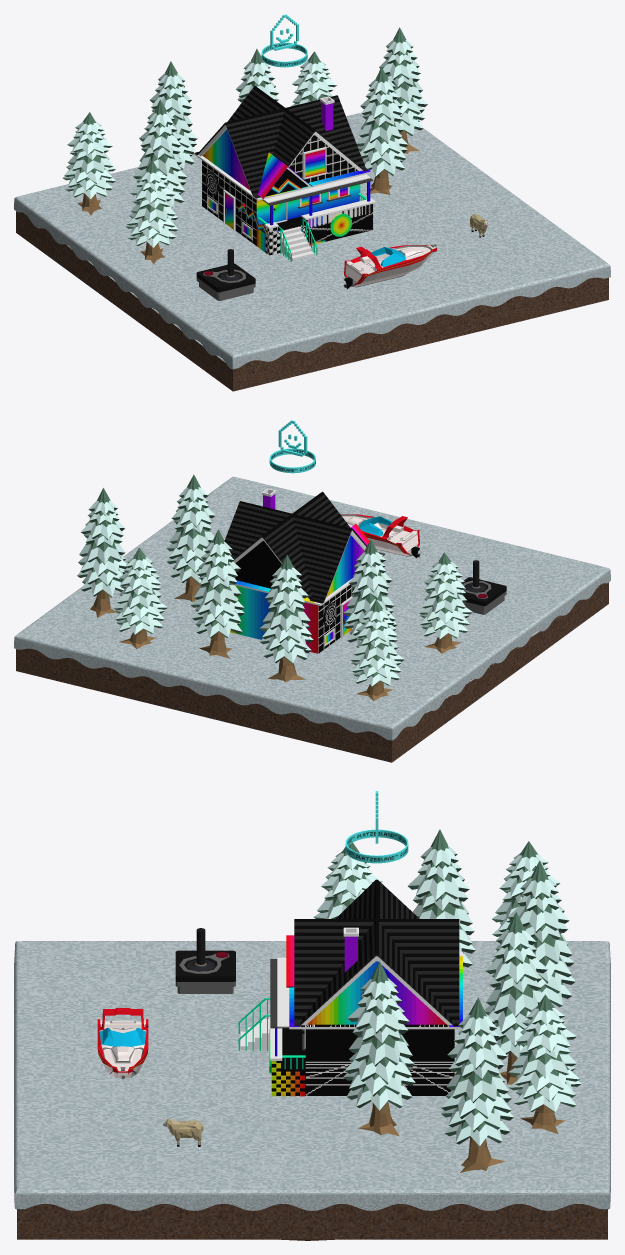
3 renders of one model, top to bottom at view 1: azimuth 30°, elevation 25°; view 2: azimuth 150°, elevation 25°; view 3: azimuth 270°, elevation 25°, orthographic. The views are drawn at different scales.
Parts seen in each view (by area): view 1: Cube.003, Cube.1320, VEHICLES_BOAT, OBJRANDOM_JOYSTICK, TYPE_PREMIUM; view 2: Cube.003, Cube.1320, VEHICLES_BOAT, OBJRANDOM_JOYSTICK, TYPE_PREMIUM; view 3: Cube.003, Cube.1320, VEHICLES_BOAT, OBJRANDOM_JOYSTICK, TYPE_PREMIUM, ANIMAL_OVEJA.
Part boxes in pixels (bbox=[...]): Cube.003: bbox=[14, 27, 610, 391]; Cube.1320: bbox=[193, 86, 375, 261]; VEHICLES_BOAT: bbox=[343, 244, 436, 288]; OBJRANDOM_JOYSTICK: bbox=[196, 249, 255, 300]; TYPE_PREMIUM: bbox=[261, 14, 307, 67]; Cube.003: bbox=[14, 474, 610, 762]; Cube.1320: bbox=[224, 488, 387, 653]; VEHICLES_BOAT: bbox=[340, 514, 420, 558]; OBJRANDOM_JOYSTICK: bbox=[462, 560, 506, 614]; TYPE_PREMIUM: bbox=[269, 420, 315, 473]; Cube.003: bbox=[14, 829, 610, 1239]; Cube.1320: bbox=[238, 879, 462, 1096]; VEHICLES_BOAT: bbox=[97, 1008, 148, 1079]; OBJRANDOM_JOYSTICK: bbox=[175, 928, 235, 993]; TYPE_PREMIUM: bbox=[345, 791, 408, 863]; ANIMAL_OVEJA: bbox=[163, 1118, 203, 1146].
Size of the model in its own units: 4040 by 2534 by 4040.
35 materials, 6 textured.
